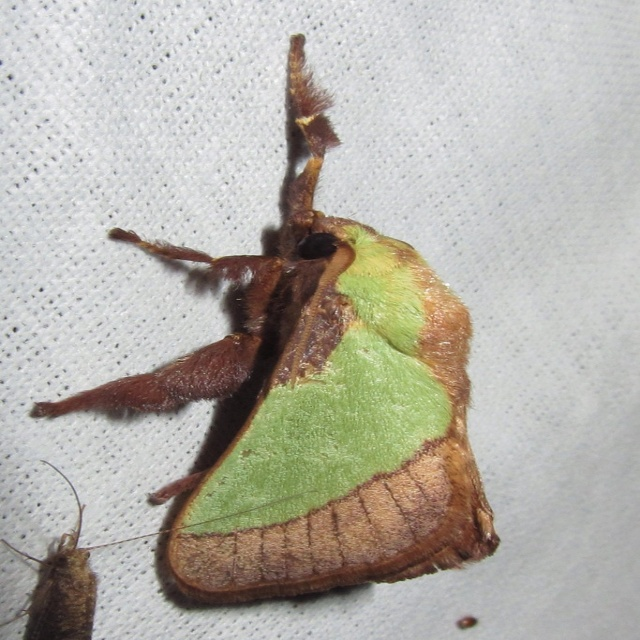Moths and butterflies: (30, 31, 505, 608), (0, 458, 314, 640)
